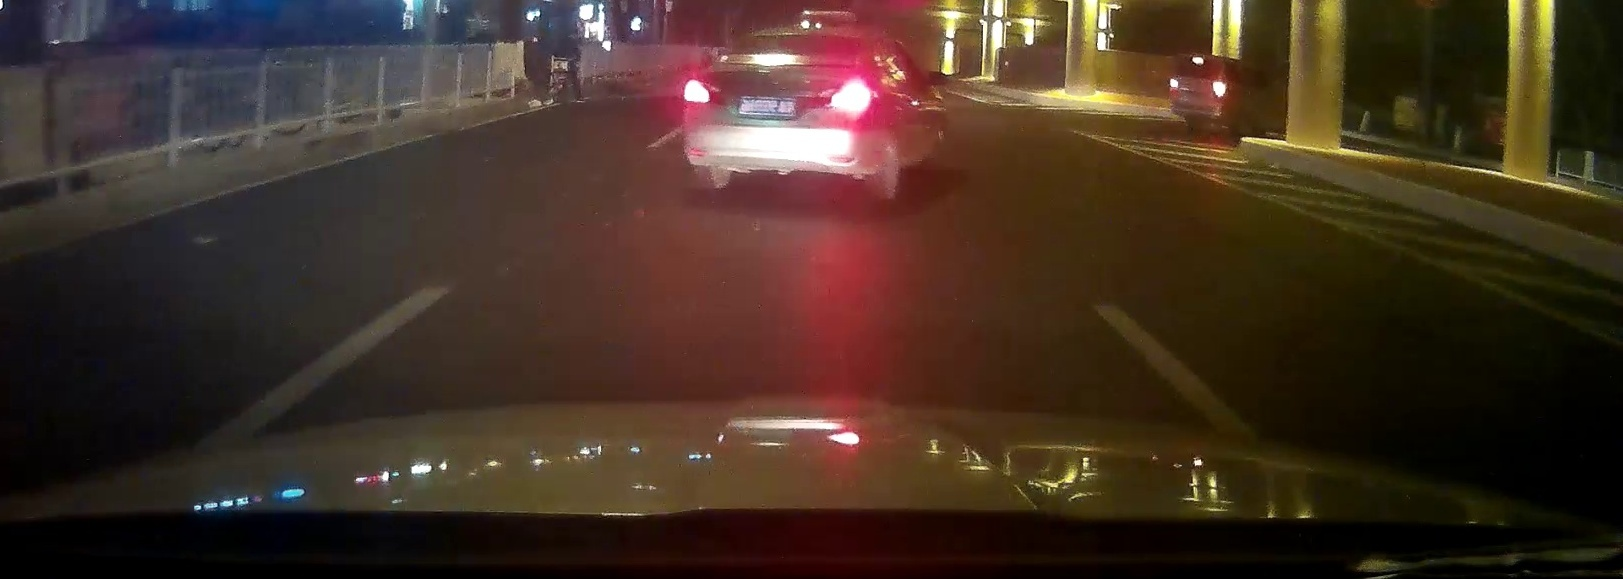L_light: (683, 78, 721, 105), (1169, 78, 1179, 95)
R_light: (814, 80, 878, 114), (1212, 81, 1227, 102)
T_light: (780, 35, 810, 42), (1191, 55, 1205, 66)
night-brake: (1169, 53, 1231, 133)
night-no: (682, 25, 879, 198)
